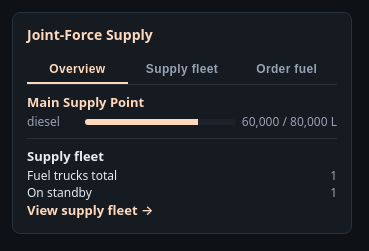
Test: SupplyPanel › defaults to the Overview tab and switches to Order fuel (W11)
Expected: the element with test id "fleet-summary" is shown, [27, 138, 337, 221]
# Switch to Order fuel: order form appears, summary hides.
Click the tab with test id "supply-tab-order" at [287, 70], box [236, 56, 337, 84]
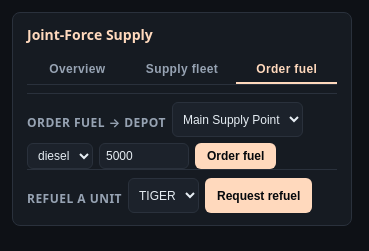
Now the button with test id "buy-submit" is shown, box [195, 143, 276, 169]
Now the element with test id "fleet-summary" is gone
# Back to Overview.
Click the tab with test id "supply-tab-overview" at [77, 70], box [27, 56, 128, 84]
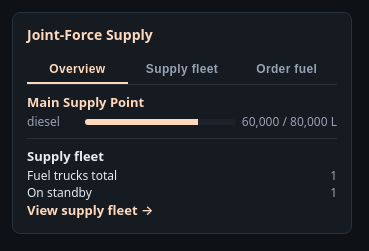
Now the element with test id "fleet-summary" is shown, box [27, 138, 337, 221]
